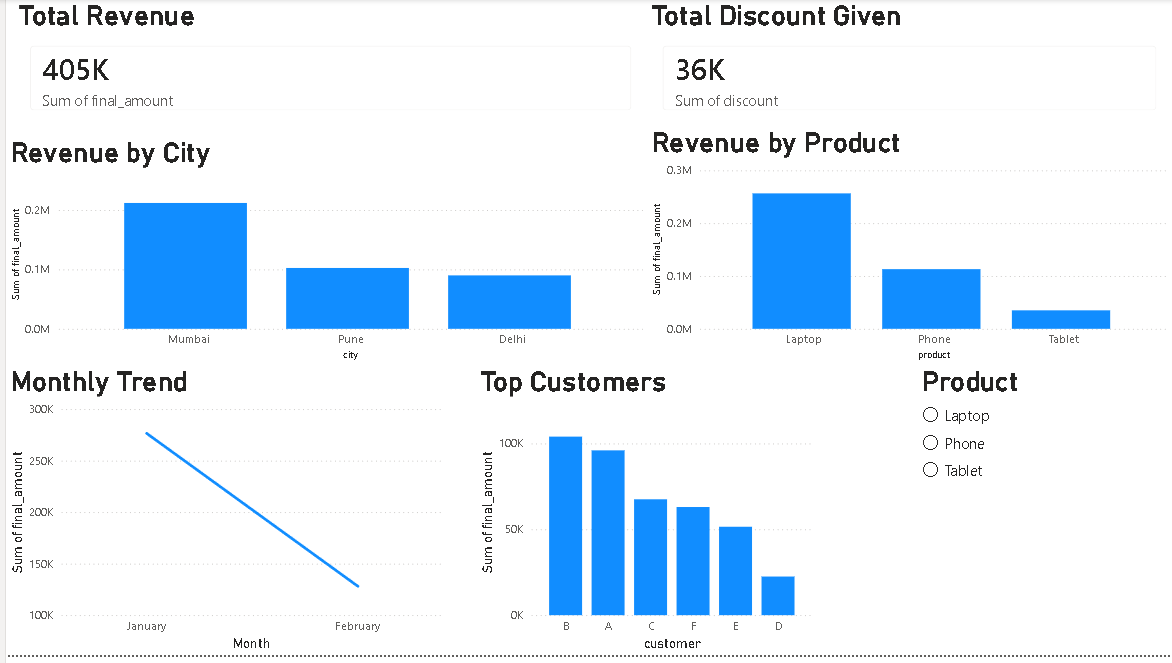

The page's visual inventory and layout, read from the dashboard file:
{"tool":"powerbi","page":{"name":"Page 1","canvas":[1280,720],"ordinal":0},"visuals":[{"type":"cardVisual","title":"Total Revenue","fields":{"Data":["Sum(sales.final_amount)"]},"box":[9.6,0,694.3,140],"z":0},{"type":"cardVisual","title":"Total Discount Given","fields":{"Data":["Sum(sales.discount)"]},"box":[703.9,0,576.3,140],"z":1},{"type":"clusteredColumnChart","title":"Revenue by City","fields":{"Category":["sales.city"],"Y":["Sum(sales.final_amount)"]},"box":[0,150.9,703.9,251.1],"z":2},{"type":"clusteredColumnChart","title":"Revenue by Product","fields":{"Category":["sales.product"],"Y":["Sum(sales.final_amount)"]},"box":[703.9,140,576.3,262.1],"z":3},{"type":"clusteredColumnChart","title":"Top Customers","fields":{"Category":["sales.customer"],"Y":["Sum(sales.final_amount)"]},"box":[516,402.1,374.6,318.4],"z":4},{"type":"lineChart","title":"Monthly Trend","fields":{"Category":["sales.order_date.Variation.Date Hierarchy.Month"],"Y":["Sum(sales.final_amount)"]},"box":[0,402.1,484.4,318.4],"z":5},{"type":"listSlicer","title":"Product","fields":{"Values":["sales.product"]},"box":[1000.3,402.1,279.9,159.2],"z":6}]}

Visuals, with their boxes in screenshot pixels (x1, y1, x2, y2), scaled from the page's 1280x720 canvas onto the 1172x663 screenshot:
"Total Revenue" cardVisual: BBox(9, 0, 645, 129)
"Total Discount Given" cardVisual: BBox(645, 0, 1171, 129)
"Revenue by City" clusteredColumnChart: BBox(0, 139, 645, 370)
"Revenue by Product" clusteredColumnChart: BBox(645, 129, 1171, 370)
"Top Customers" clusteredColumnChart: BBox(472, 370, 815, 662)
"Monthly Trend" lineChart: BBox(0, 370, 444, 662)
"Product" listSlicer: BBox(916, 370, 1171, 517)
